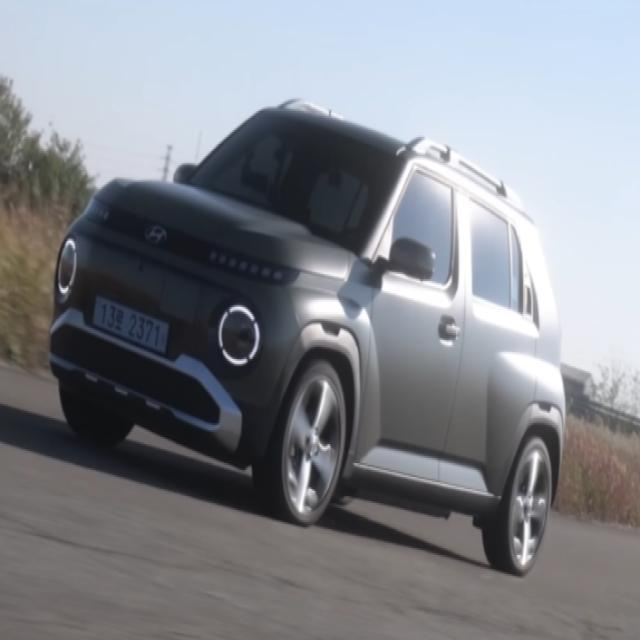car: (86, 276, 177, 376)
carev: (157, 317, 171, 356), (91, 290, 102, 332)
